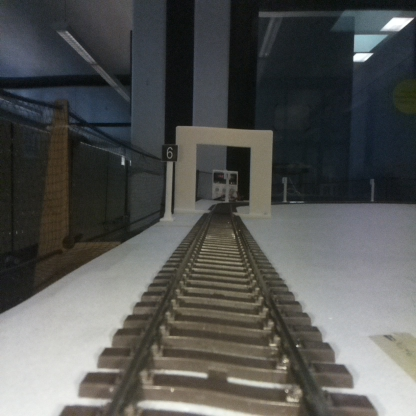black-info-6: (161, 144, 177, 220)
